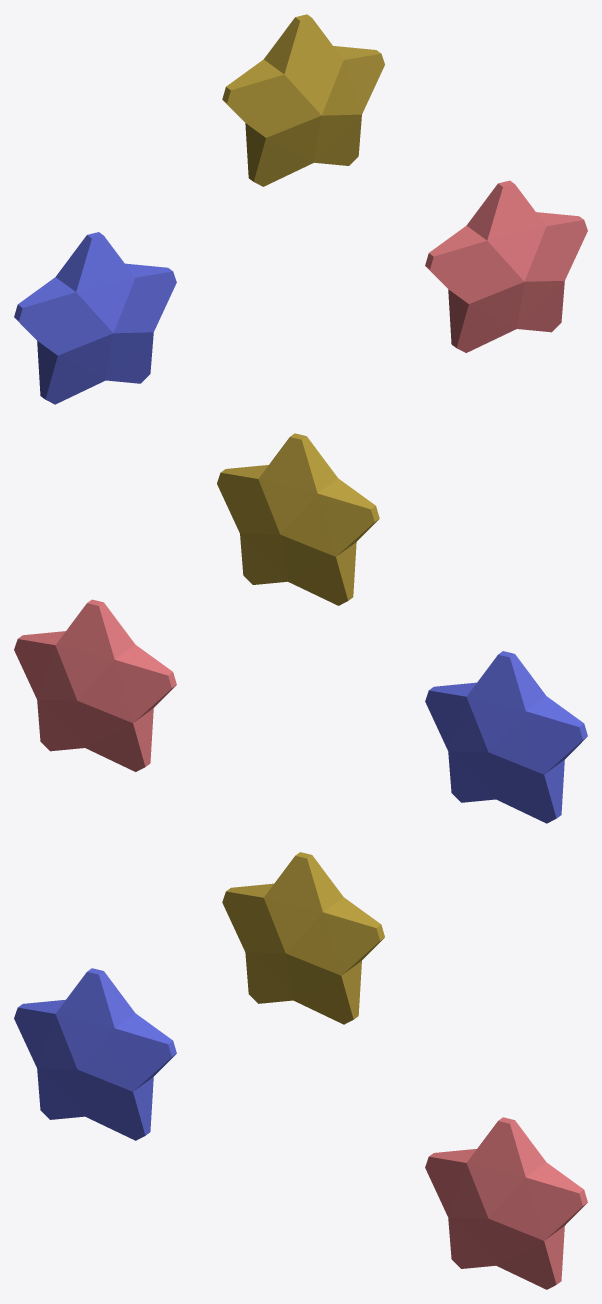
Rendered from Stars.glb.
3 renders of one model, top to bottom at view 1: azimuth 30°, elevation 25°; view 2: azimuth 150°, elevation 25°; view 3: azimuth 330°, elevation 25°, orthographic.
Parts seen in each view (by area): view 1: Star.002, Star.001, Star; view 2: Star.002, Star.001, Star; view 3: Star.001, Star.002, Star.
Part boxes in pixels (left/top/right/bottom): Star.002: left=425, top=180, right=587, bottom=352; Star.001: left=14, top=232, right=176, bottom=404; Star: left=222, top=14, right=384, bottom=186; Star.002: left=14, top=599, right=176, bottom=771; Star.001: left=425, top=651, right=587, bottom=823; Star: left=217, top=433, right=379, bottom=605; Star.001: left=14, top=968, right=176, bottom=1140; Star.002: left=425, top=1117, right=587, bottom=1289; Star: left=222, top=852, right=384, bottom=1024.
Size of the model in its own units: 10.18 by 6.38 by 1.12.
